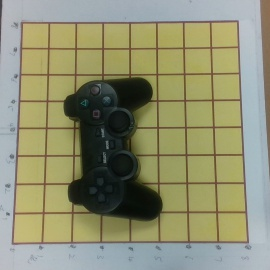remote: (63, 77, 163, 222)
